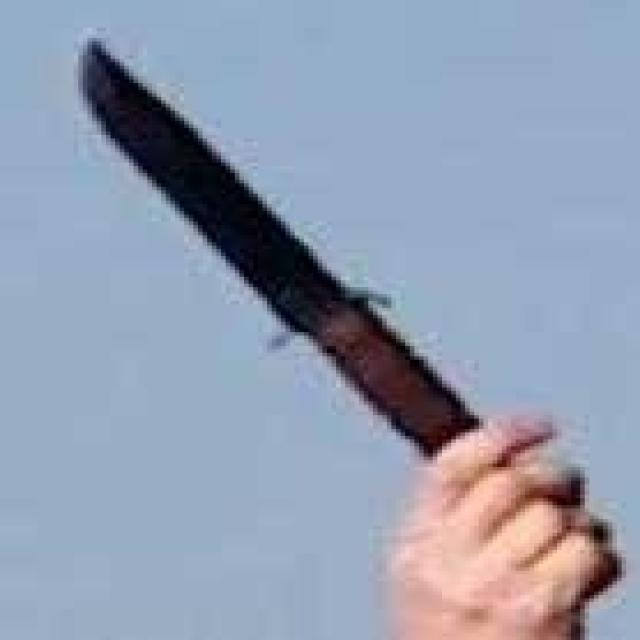Knife: (81, 38, 484, 440)
